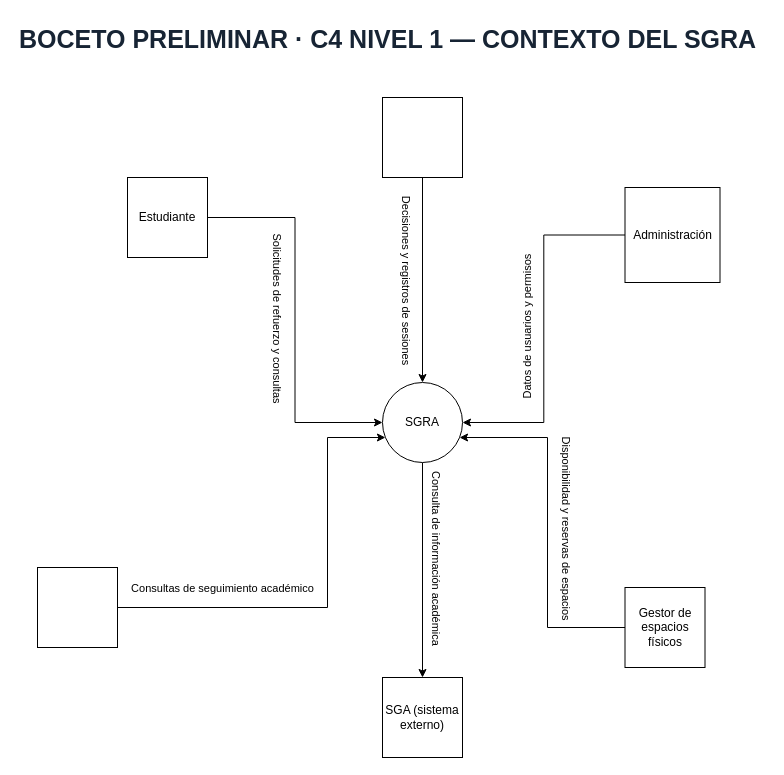
The diagram is 784 pixels wide and 775 high, and some of its shapes have lost their labels. Each missing label, with the centre of its shape:
"Coordinación" goes at point 77,607.
"Docente" goes at point 422,137.
